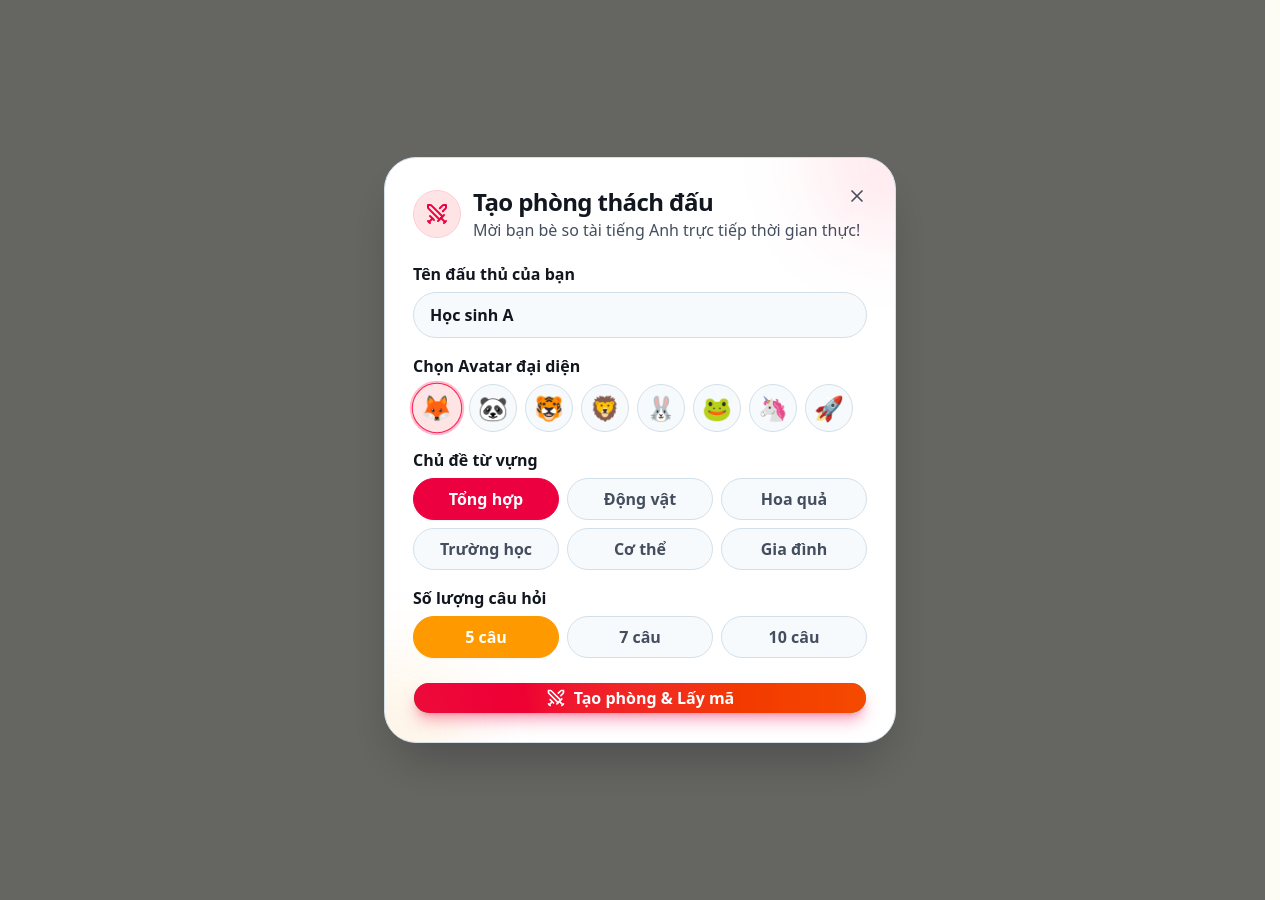
Test: CreateDuelModal › displays error message when creation fails
The width and height of the screenshot is (1280, 900).
Click the button with test id "create-duel-submit". click: [640, 698]
box: top-left (413, 682), bottom-right (867, 714)
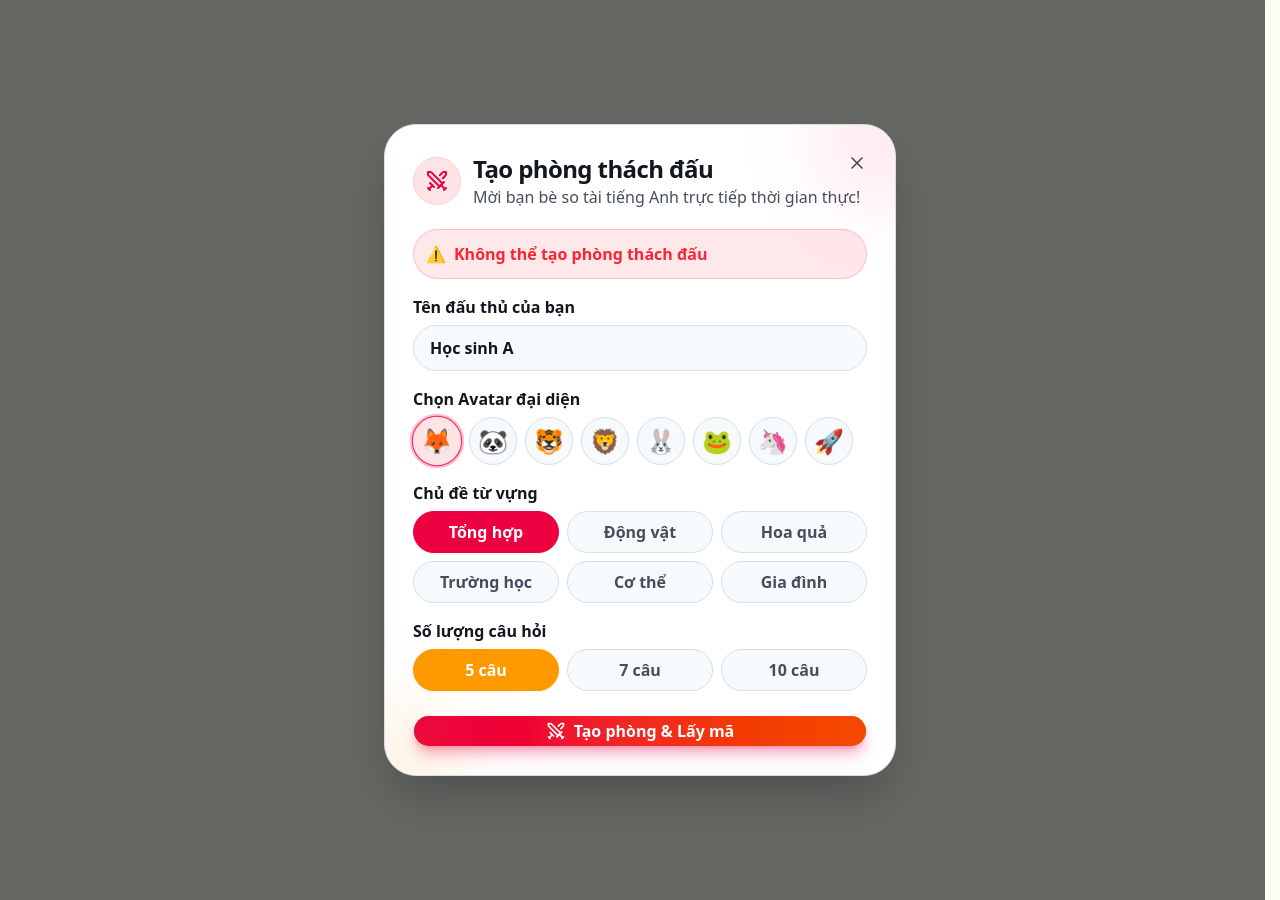
Check: the text "Không thể tạo phòng thách đấu" is shown, box top-left (454, 242), bottom-right (708, 266)
